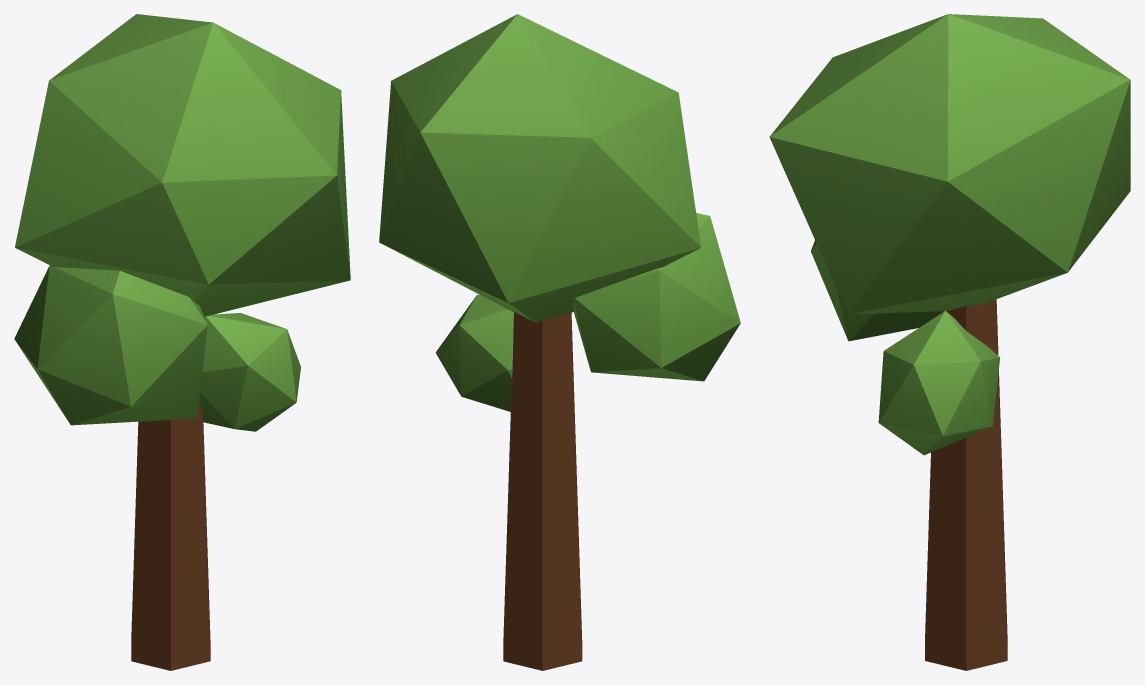
3 views of the same model, side by side, from view 1: azimuth 30°, elevation 25°; view 2: azimuth 150°, elevation 25°; view 3: azimuth 270°, elevation 25° (orthographic). The views are drawn at different scales.
Parts seen in each view (by area): view 1: DS_01; view 2: DS_01; view 3: DS_01.
Boxes of the visible parts, x1=… form: DS_01: x1=14, y1=14, x2=350, y2=670; DS_01: x1=379, y1=14, x2=740, y2=670; DS_01: x1=769, y1=14, x2=1130, y2=670.
Bounding box in the file's own units: 1.15 × 2.11 × 1.06.
